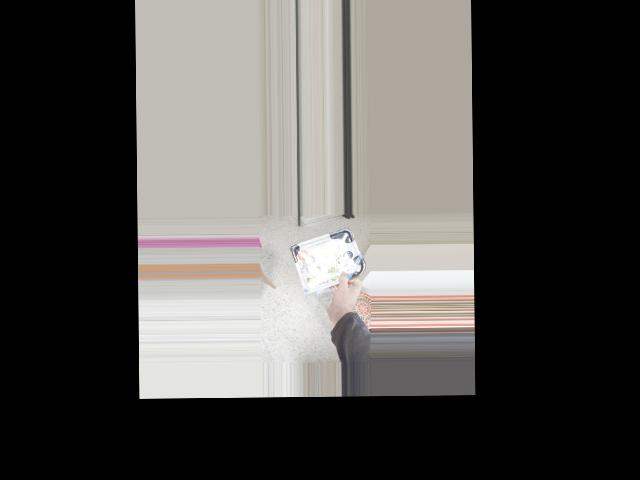cheese: (298, 235, 361, 282)
